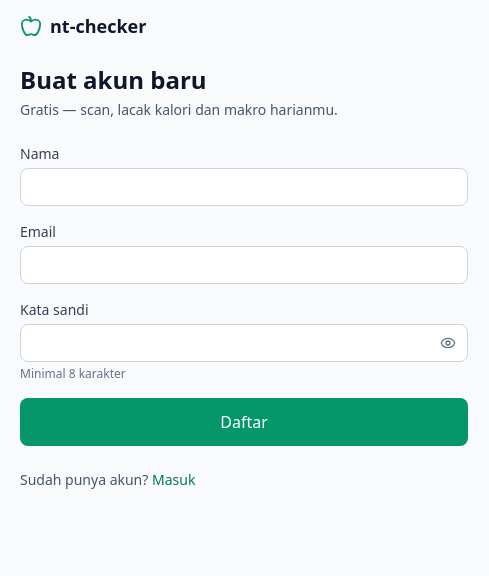
Scenario: SignupPage › duplicate email (409 DUPLICATE_EMAIL) shows "Email sudah terdaftar. Coba masuk."
Step 1. Type "Imam" into the field labelled "Nama" → (244, 187), box [20,168,468,206]
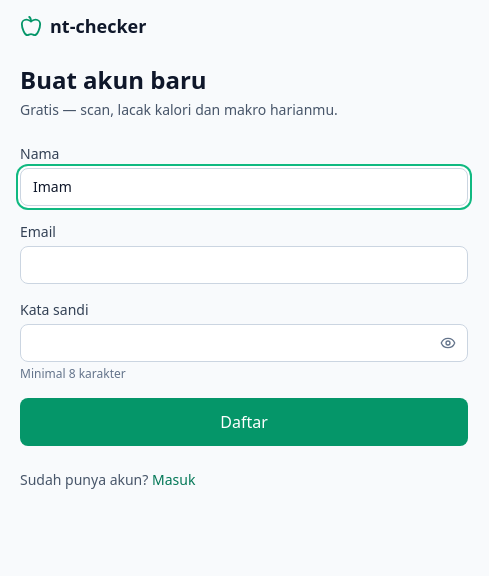
Step 2. Type "imam@example.com" into the field labelled "Email" → (244, 265), box [20,246,468,284]
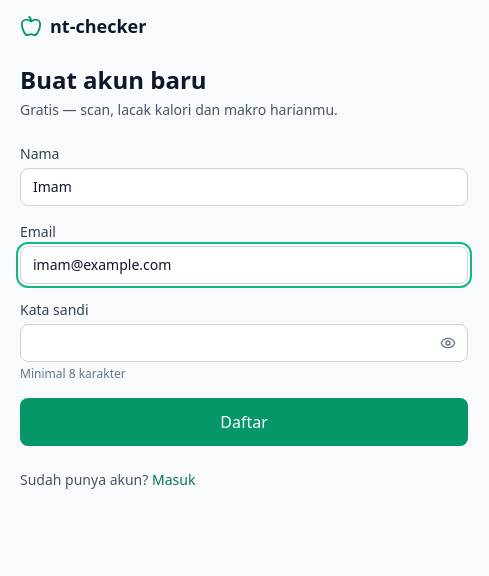
Step 3. Type "password123" into the password field labelled "Kata sandi" → (244, 343), box [20,324,468,362]
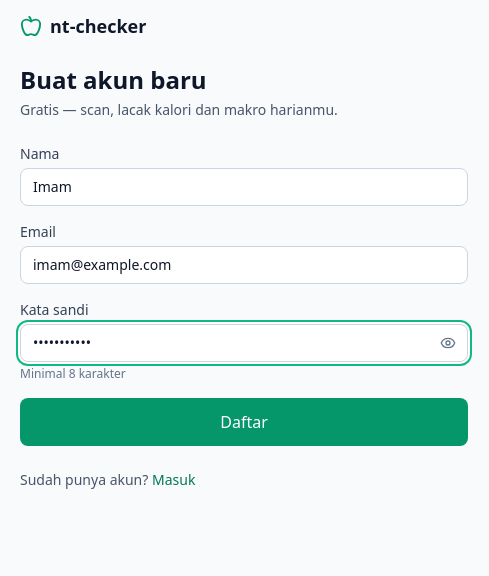
Step 4. Click the button "Daftar" → (244, 422), box [20,398,468,446]
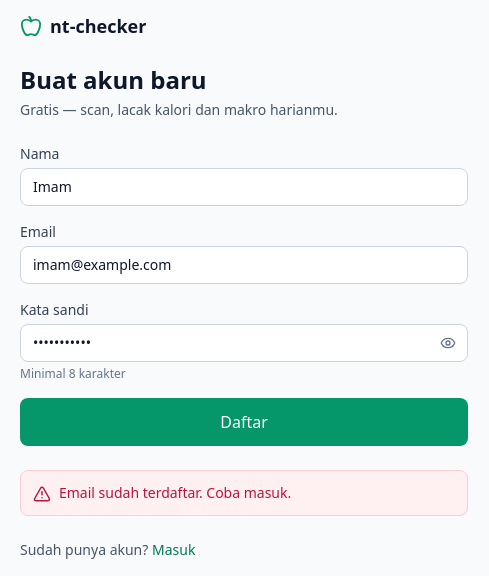
Expected: the message reads "Email sudah terdaftar. Coba masuk.", [59,483,291,502]
